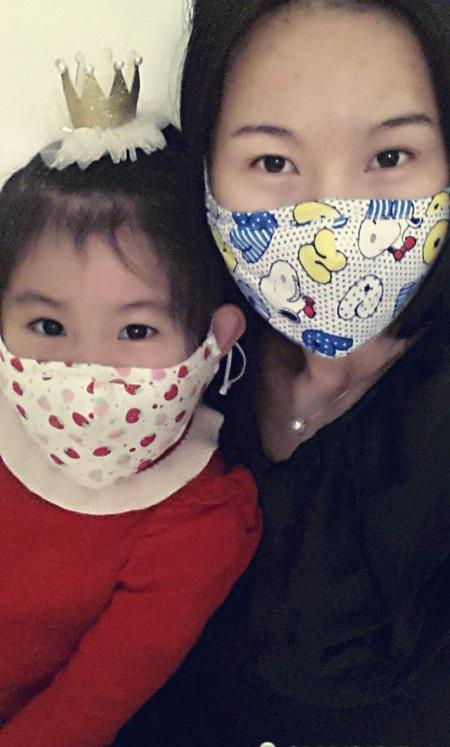OK: (194, 95, 442, 343), (11, 282, 206, 477)
